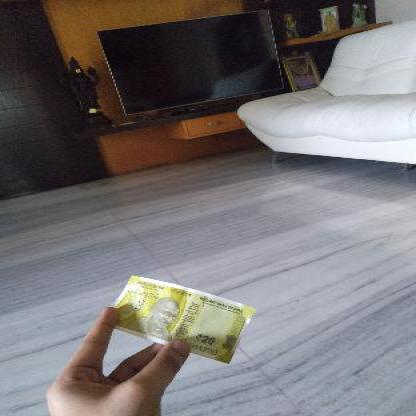New20Front: (104, 274, 248, 363)
